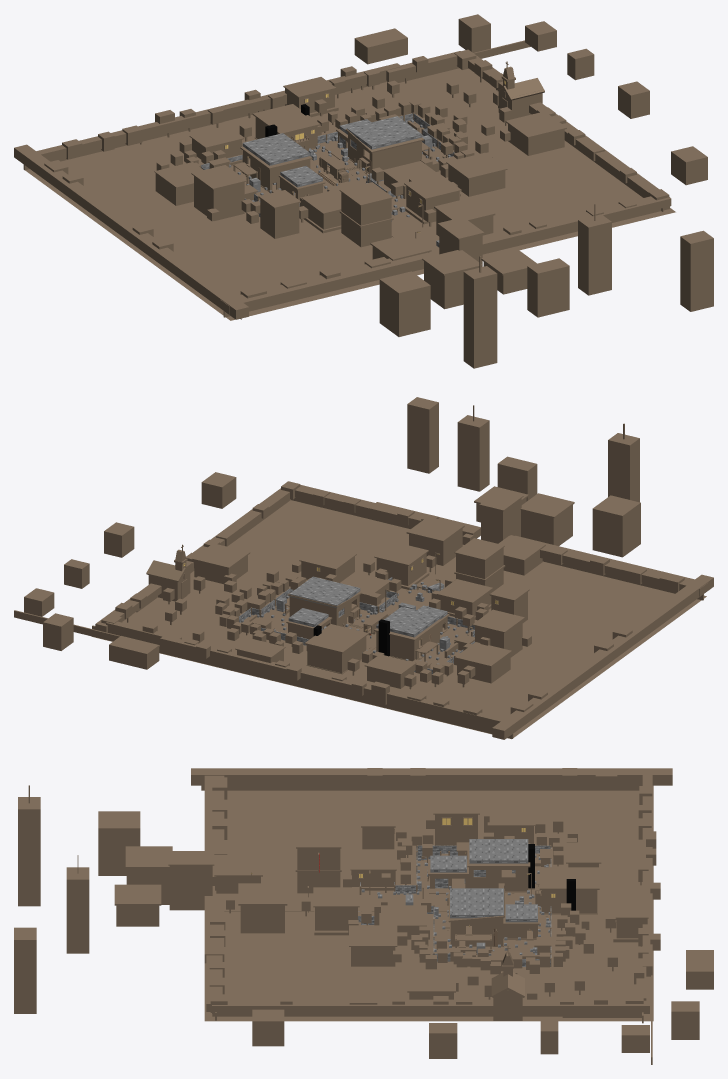
The model's file is Littletown.obj.
The picture shows the model from 3 angles, top to bottom: view 1: azimuth 30°, elevation 25°; view 2: azimuth 150°, elevation 25°; view 3: azimuth 270°, elevation 25°; orthographic projection. The views are drawn at different scales.
Bounding box in the file's own units: 1790 × 349 × 1890.
862 materials, 808 textured.
